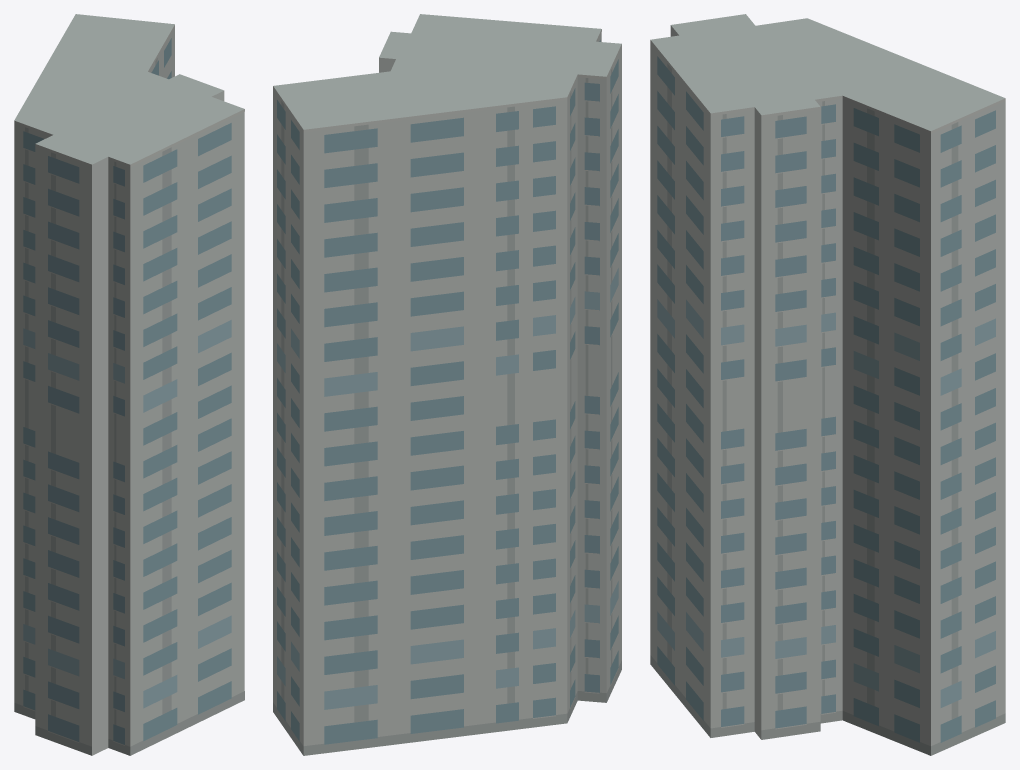
The model's file is residential-283cca57-3f4d-4ee3-b266-470980756de3.glb.
3 views of the same model, side by side, from view 1: azimuth 30°, elevation 25°; view 2: azimuth 150°, elevation 25°; view 3: azimuth 270°, elevation 25° (orthographic). The views are drawn at different scales.
Parts seen in each view (by area): view 1: residential-283cca57-3f4d-4ee3-b266-470980756de3.tmp; view 2: residential-283cca57-3f4d-4ee3-b266-470980756de3.tmp; view 3: residential-283cca57-3f4d-4ee3-b266-470980756de3.tmp.
Part boxes in pixels (x1=…): residential-283cca57-3f4d-4ee3-b266-470980756de3.tmp: x1=14, y1=14, x2=244, y2=755; residential-283cca57-3f4d-4ee3-b266-470980756de3.tmp: x1=273, y1=14, x2=621, y2=755; residential-283cca57-3f4d-4ee3-b266-470980756de3.tmp: x1=650, y1=14, x2=1005, y2=755.
Bounding box in the file's own units: 22.11 × 54.9 × 28.3.
